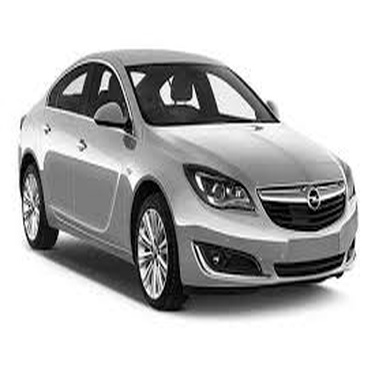car: (13, 39, 365, 315)
